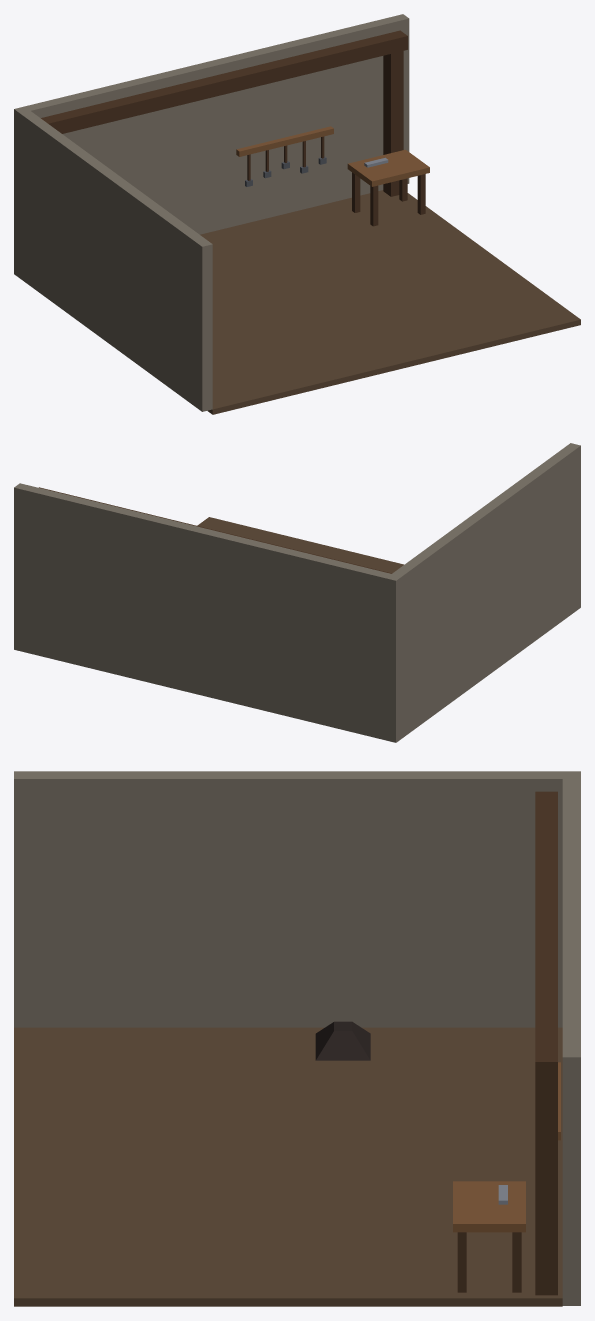
Rendered from room.glb.
The picture shows the model from 3 angles, top to bottom: view 1: azimuth 30°, elevation 25°; view 2: azimuth 150°, elevation 25°; view 3: azimuth 270°, elevation 25°; orthographic projection. The views are drawn at different scales.
Visible parts, largest first — view 1: room; view 2: room; view 3: room.
Part boxes in pixels (left/top/right/bottom): room: left=14, top=14, right=580, bottom=414; room: left=14, top=443, right=580, bottom=742; room: left=14, top=771, right=580, bottom=1306.
Bounding box in the file's own units: 7.4 × 3.1 × 6.2.
